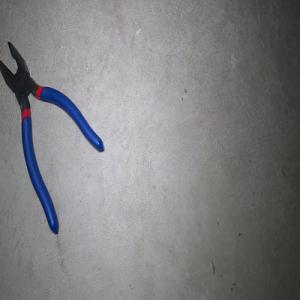Pliers: (0, 40, 103, 233)
